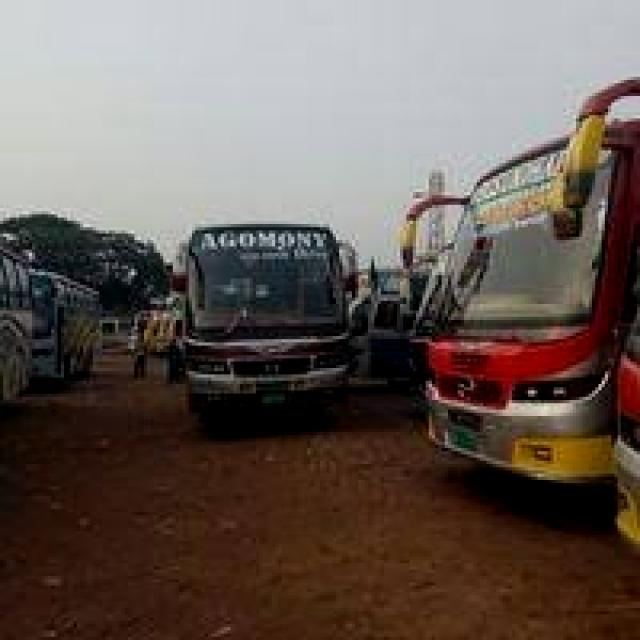bus: (393, 69, 635, 527), (170, 208, 365, 446)
